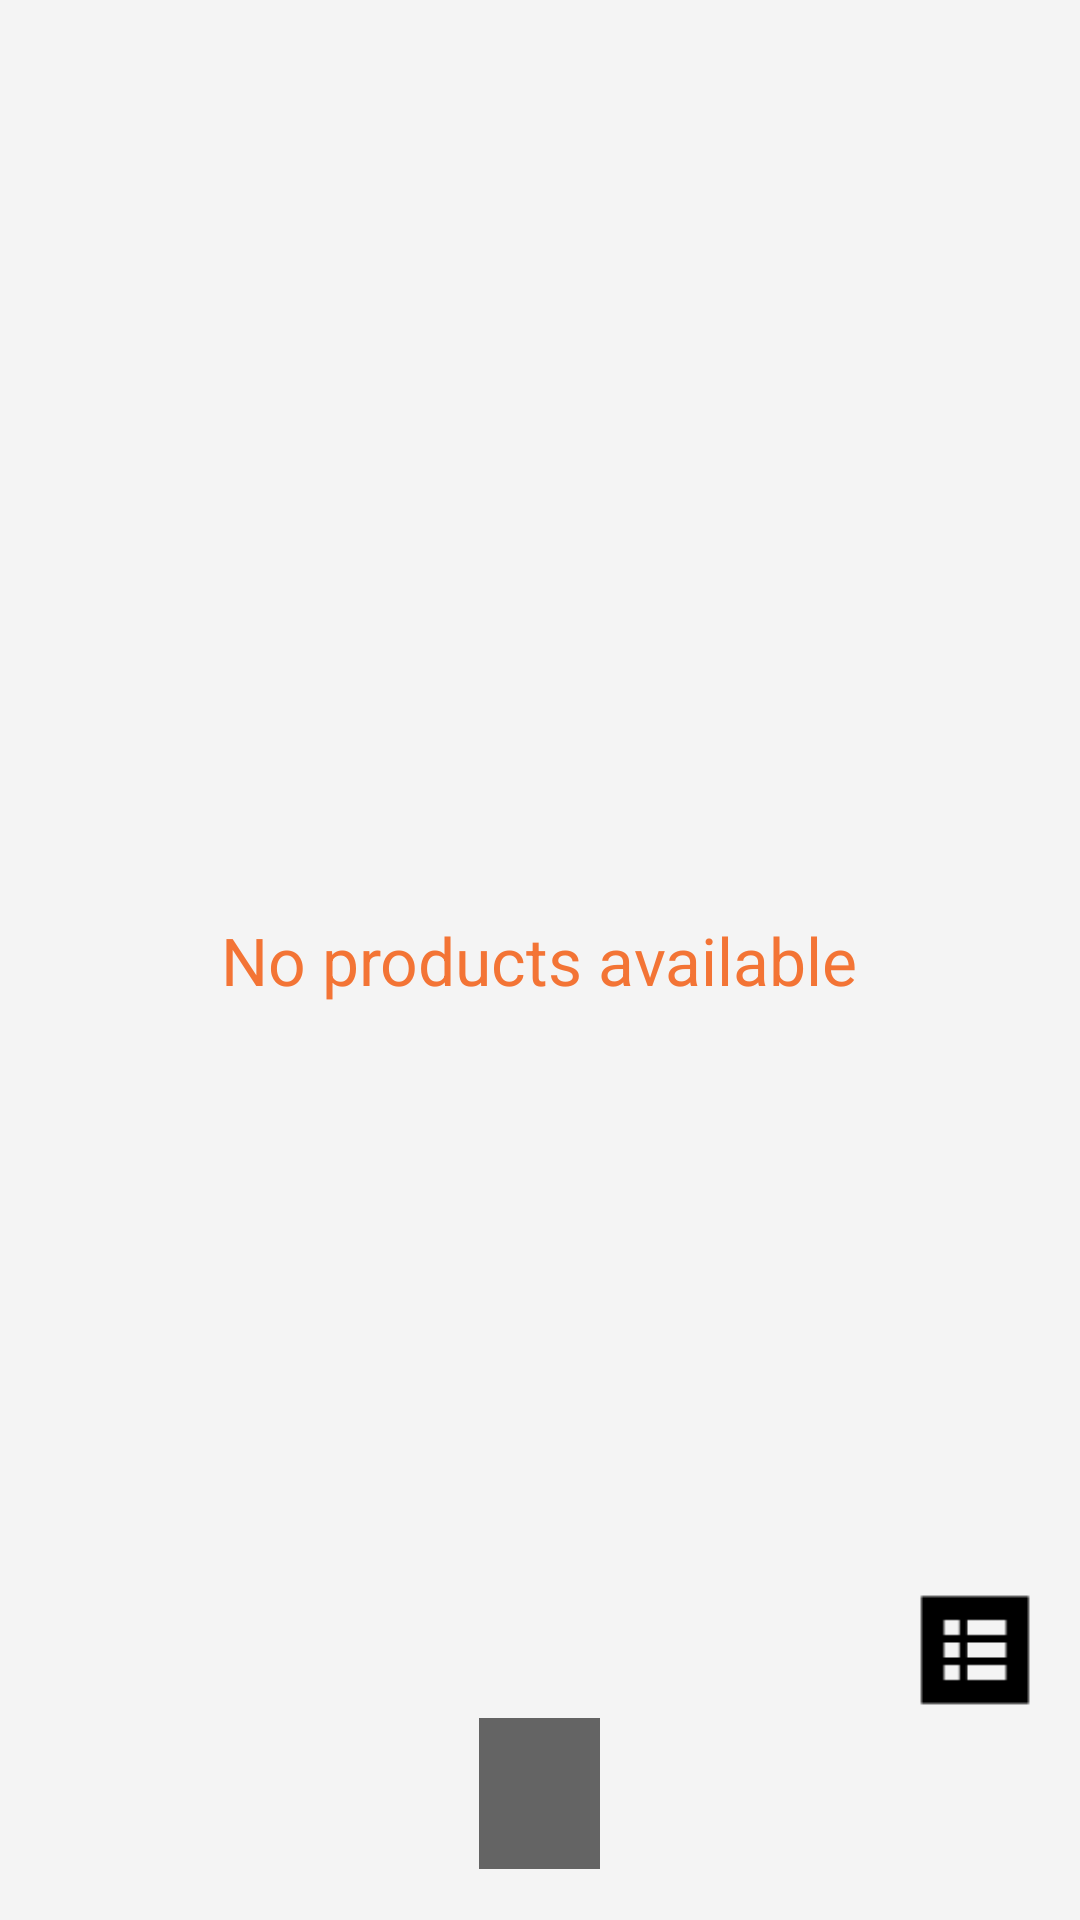

Icons on this 1080 x 1920 Android screen, each with its box as (x1, y1, x2, y2):
show list: (920, 1595, 1030, 1705)
